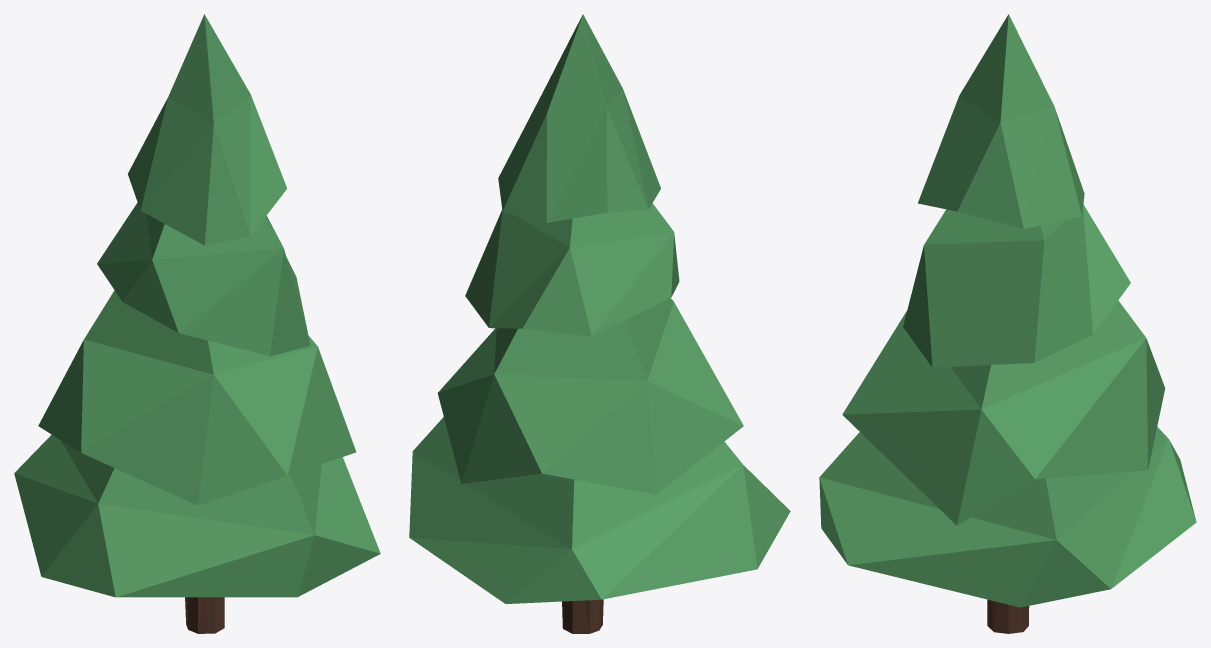
The model's file is Low Poly EG-Tree.fbx.
The picture shows the model from 3 angles, left to right: view 1: azimuth 30°, elevation 25°; view 2: azimuth 150°, elevation 25°; view 3: azimuth 270°, elevation 25°; orthographic projection.
Parts seen in each view (by area): view 1: Cube.001; view 2: Cube.001; view 3: Cube.001.
Boxes of the visible parts, box(x1,y1,x2,y2) form: Cube.001: box(14, 14, 380, 633); Cube.001: box(409, 14, 790, 633); Cube.001: box(819, 14, 1196, 633).
Size of the model in its own units: 420 by 770 by 430.
